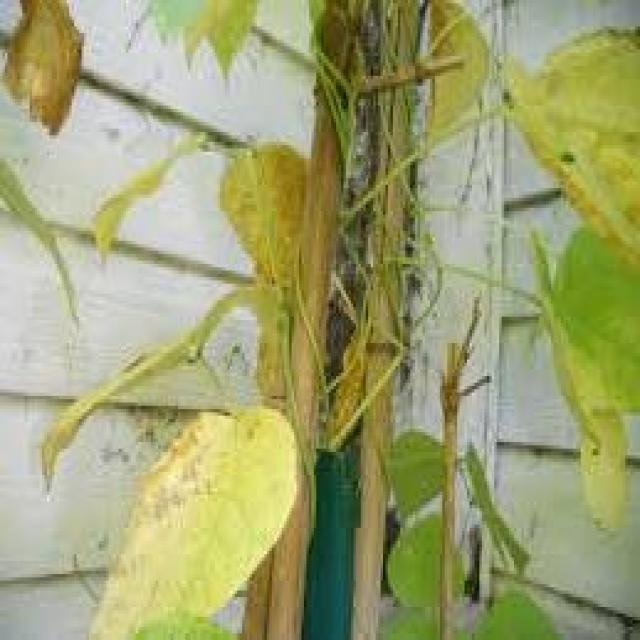Moko: (89, 406, 264, 640)
